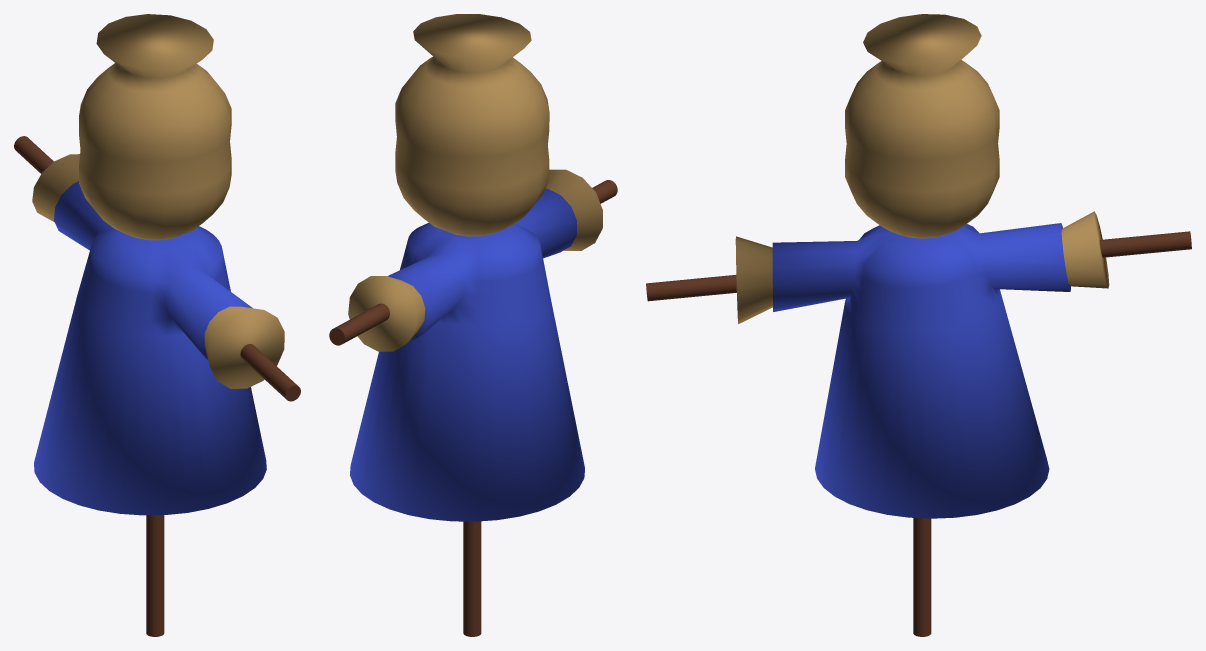
The model's file is dummy.fbx.
3 views of the same model, side by side, from view 1: azimuth 30°, elevation 25°; view 2: azimuth 150°, elevation 25°; view 3: azimuth 270°, elevation 25° (orthographic).
Parts seen in each view (by area): view 1: Scarecrow; view 2: Scarecrow; view 3: Scarecrow.
Boxes of the visible parts, box(x1,y1,x2,y2) form: Scarecrow: box(14, 14, 300, 636); Scarecrow: box(329, 14, 617, 636); Scarecrow: box(646, 14, 1191, 636).
Size of the model in its own units: 200 by 562 by 465.
